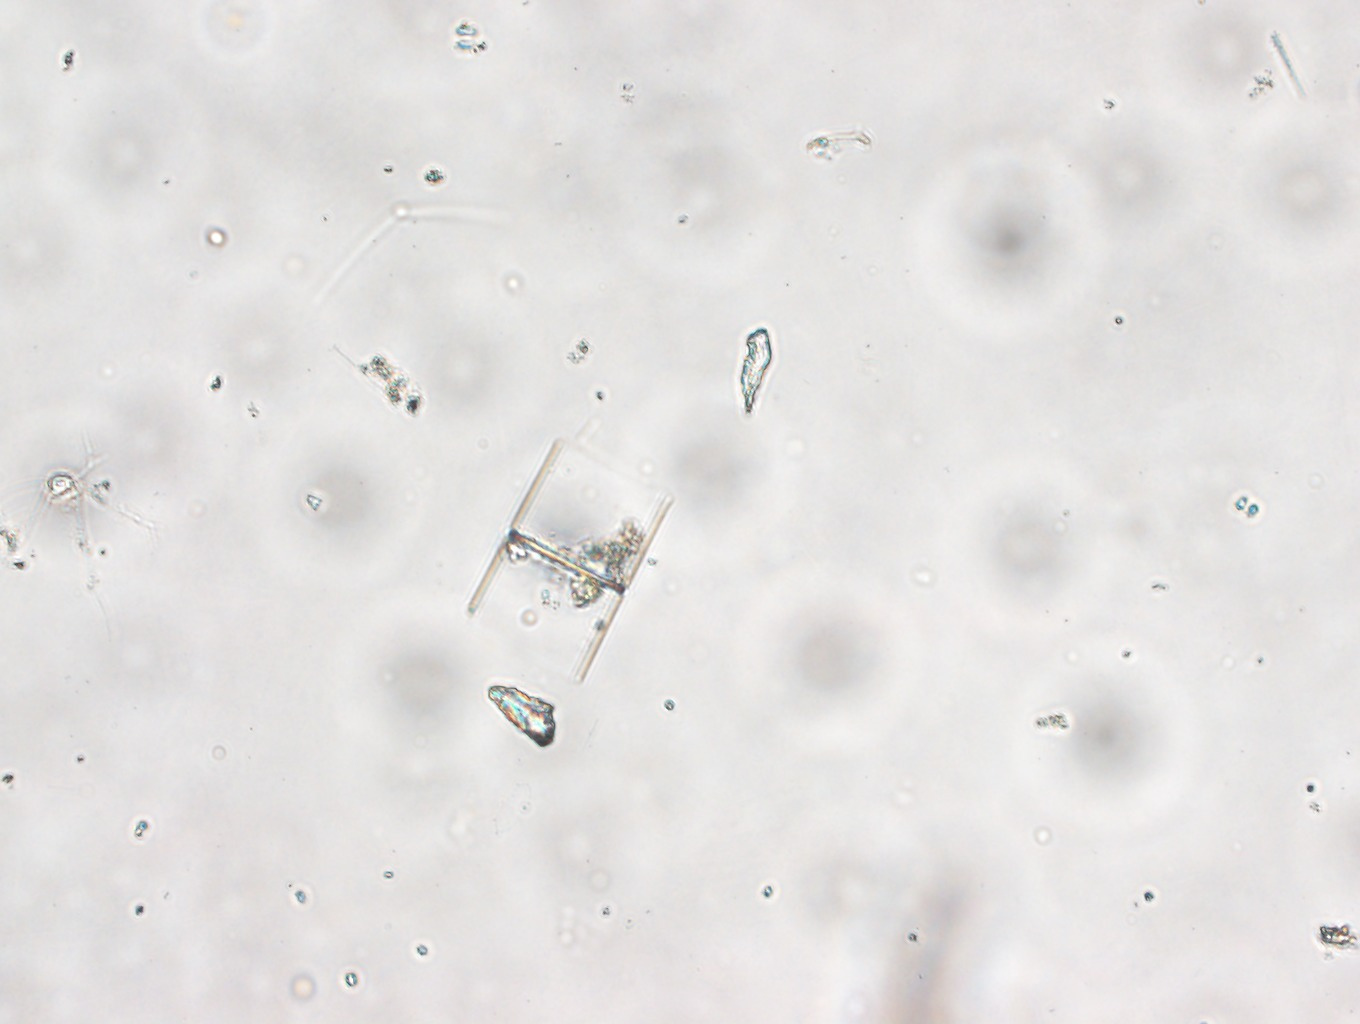guinardia flaccida: (464, 437, 674, 685)
